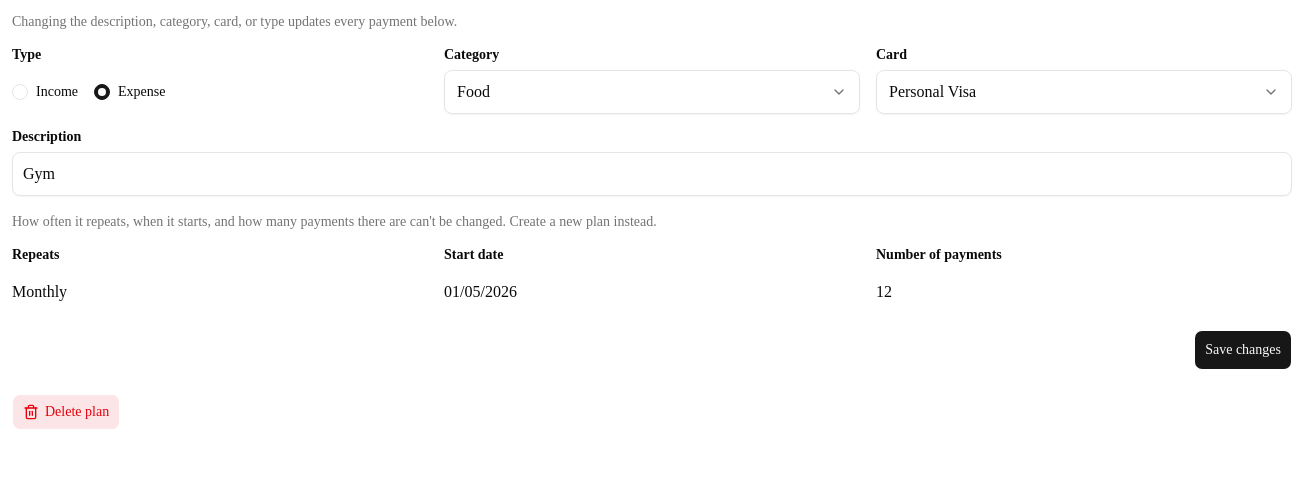
Test: InstallmentSeriesForm › stays on the page and shows a saved confirmation, rather than navigating away
What coordinates should you click on to do the following:
click the button "Save changes"
I would click on:
 (1243, 350)
Its box is [1194,330,1292,370].
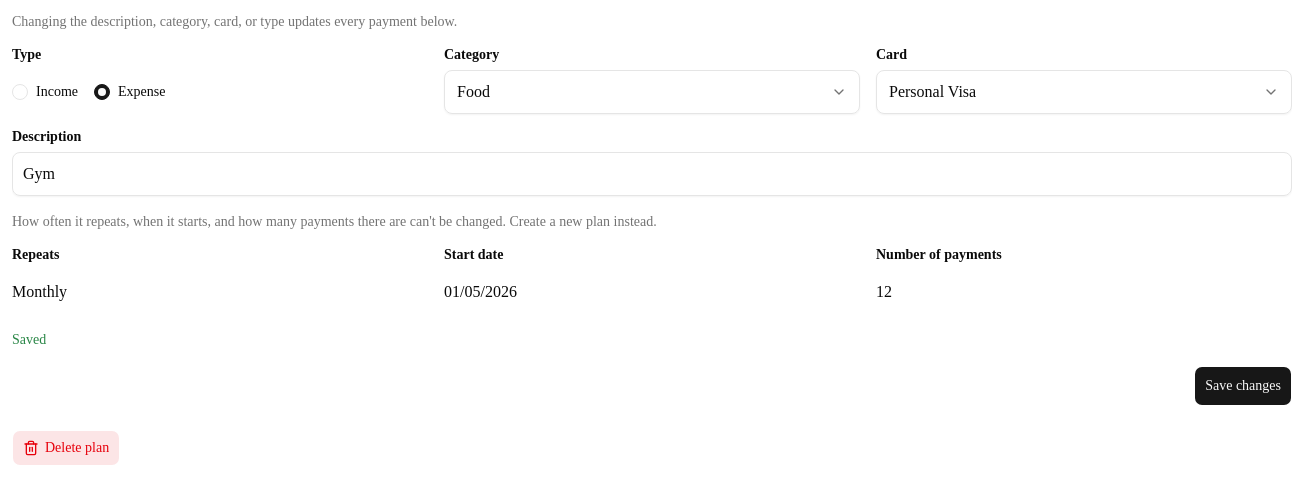
expect the text "Saved" is shown: met, box [12,332,46,347]
